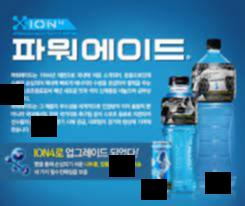powerade_mountainblast: (162, 73, 203, 195)
